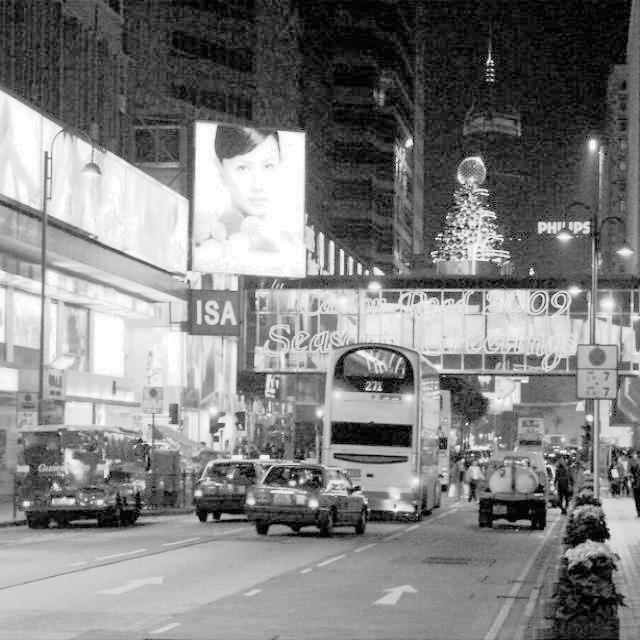Bus: (308, 334, 450, 539)
Car: (244, 456, 381, 546), (189, 448, 272, 534)
